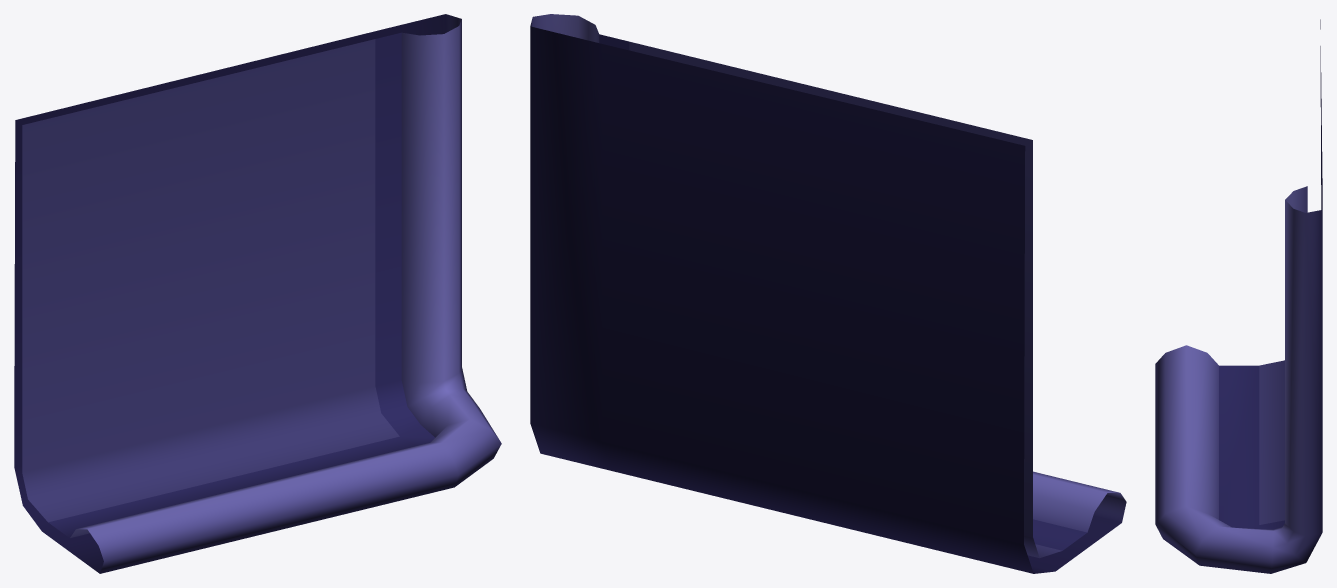
Rendered from carpet_start_side.fbx.
3 renders of one model, left to right at view 1: azimuth 30°, elevation 25°; view 2: azimuth 150°, elevation 25°; view 3: azimuth 270°, elevation 25°, orthographic. The views are drawn at different scales.
Visible parts, largest first — view 1: carpet_start_side; view 2: carpet_start_side; view 3: carpet_start_side.
Boxes of the visible parts, box(x1,y1,x2,y2) form: carpet_start_side: box(14, 14, 501, 573); carpet_start_side: box(530, 14, 1126, 573); carpet_start_side: box(1155, 19, 1322, 573).
Size of the model in its own units: 2.38 by 2.03 by 0.8444.
